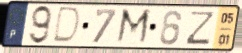6: (158, 9, 183, 47)
7: (92, 7, 118, 46)
9: (27, 4, 53, 46)
D: (50, 6, 82, 46)
M: (114, 7, 153, 47)
Z: (184, 10, 218, 46)
